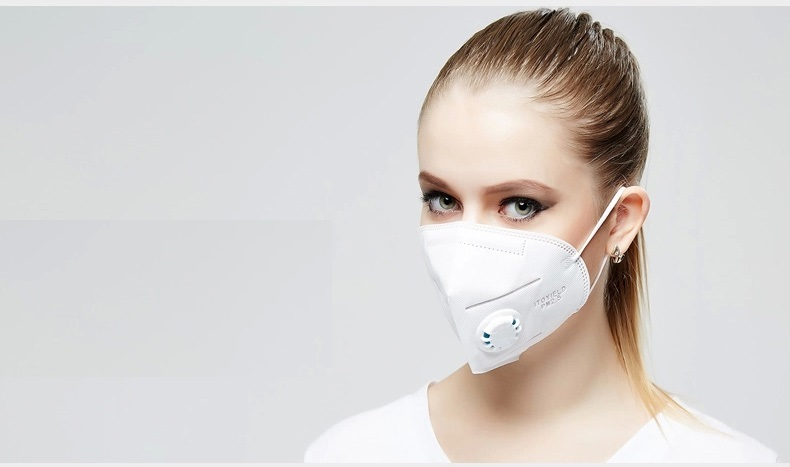face_mask: (417, 119, 590, 375)
